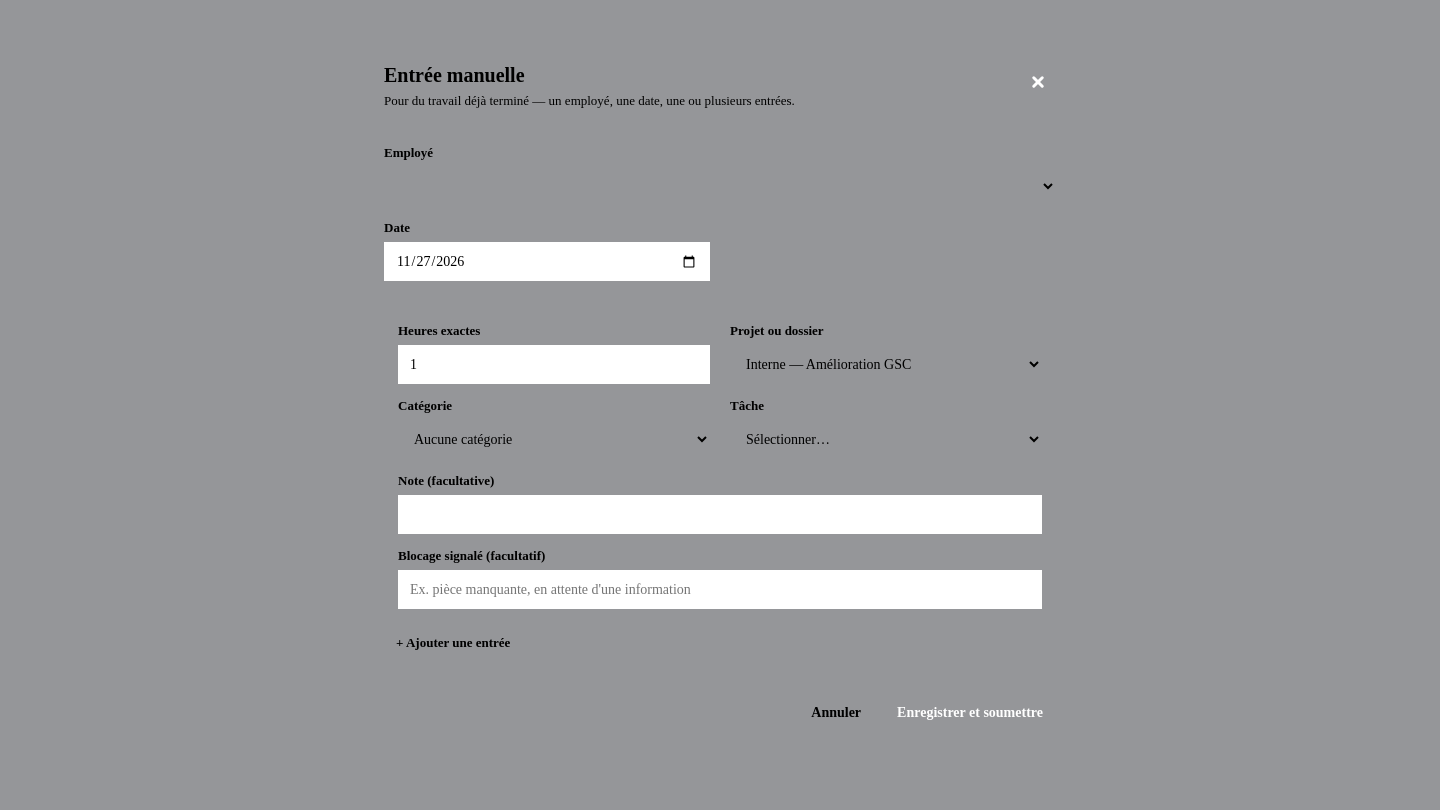
Test: ManualEntryModal — saisie en lot › « + Ajouter une entrée » ajoute une deuxième ligne avec un bouton de retrait sur chacune
The image size is (1440, 810).
Click the button "+ Ajouter une entrée" at (453, 643), box x1=384 y1=629 x2=522 y2=657
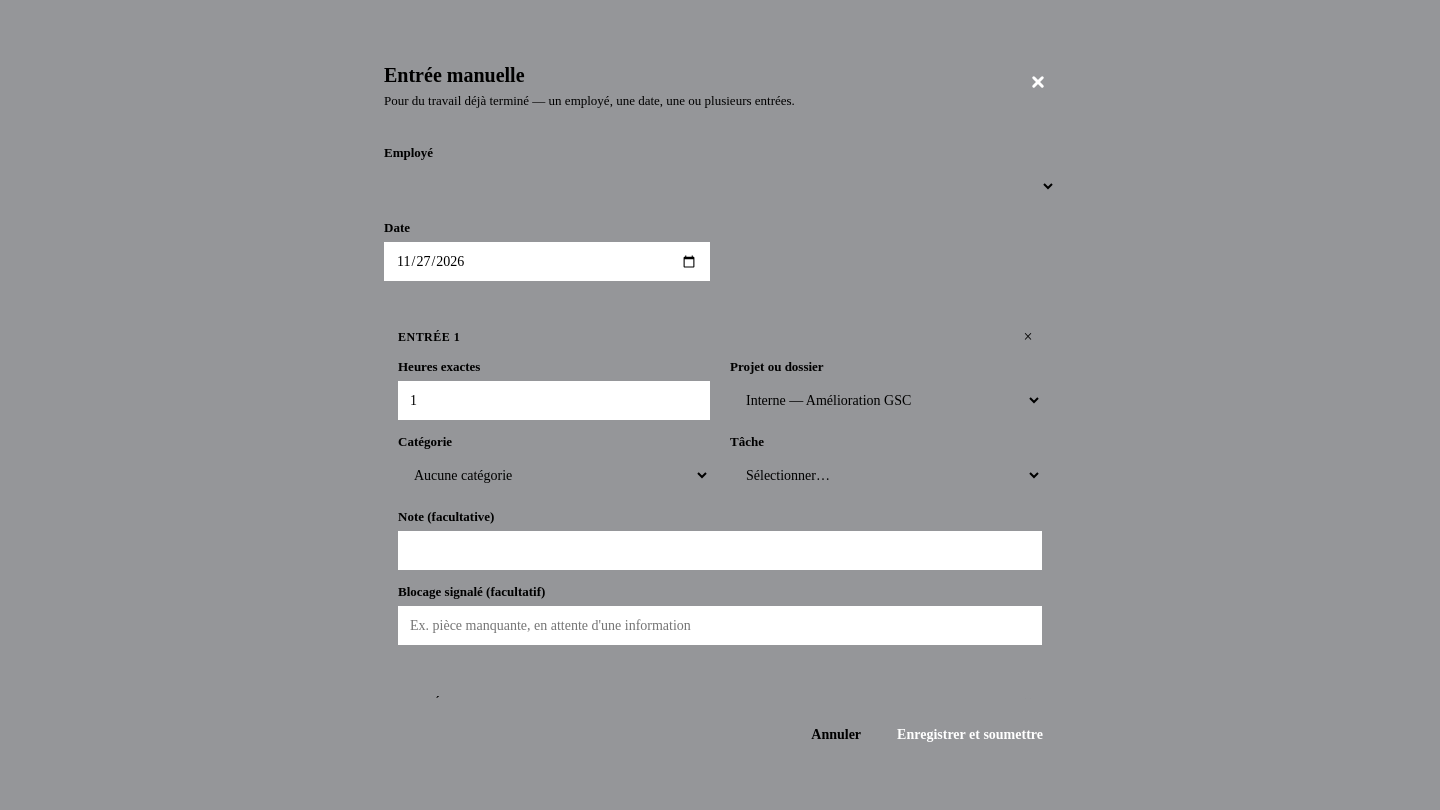
Now the number of buttons named "Retirer cette entrée" is 2
